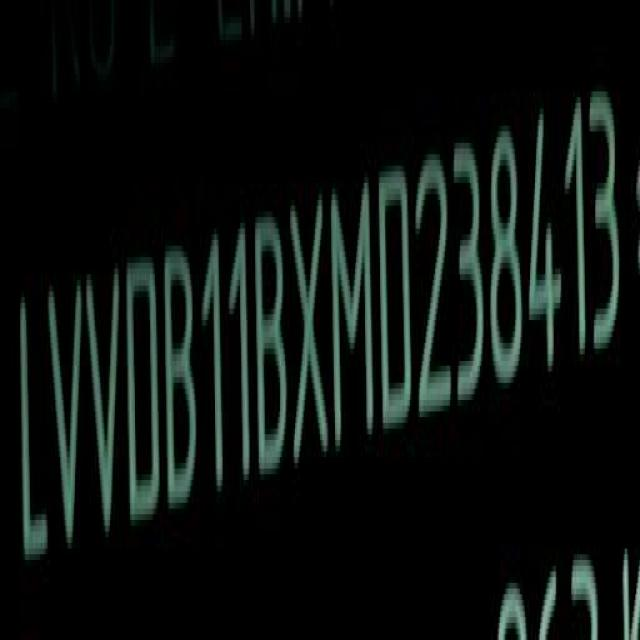1: (200, 224, 227, 502), (228, 220, 254, 491), (564, 104, 590, 360)
2: (412, 159, 453, 421)
3: (586, 68, 621, 353), (451, 138, 487, 406)
4: (528, 112, 563, 385)
8: (489, 129, 523, 394)
B: (252, 205, 289, 485), (164, 252, 198, 510)
D: (376, 165, 413, 442), (124, 260, 162, 523)
L: (17, 275, 50, 576)
M: (330, 176, 375, 453)
V: (46, 273, 85, 550), (85, 267, 122, 552)
X: (289, 197, 328, 461)
